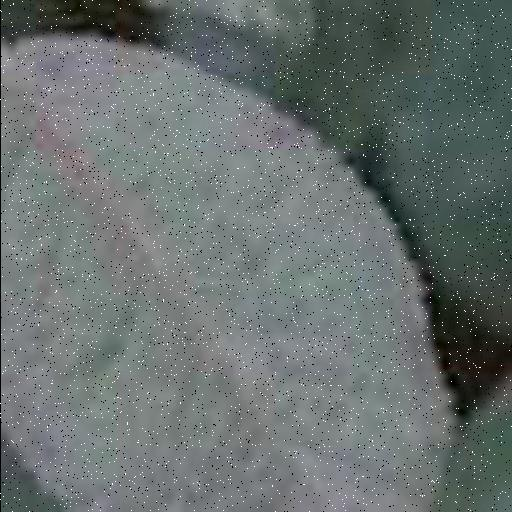powdery_mildew: (0, 36, 455, 512)
